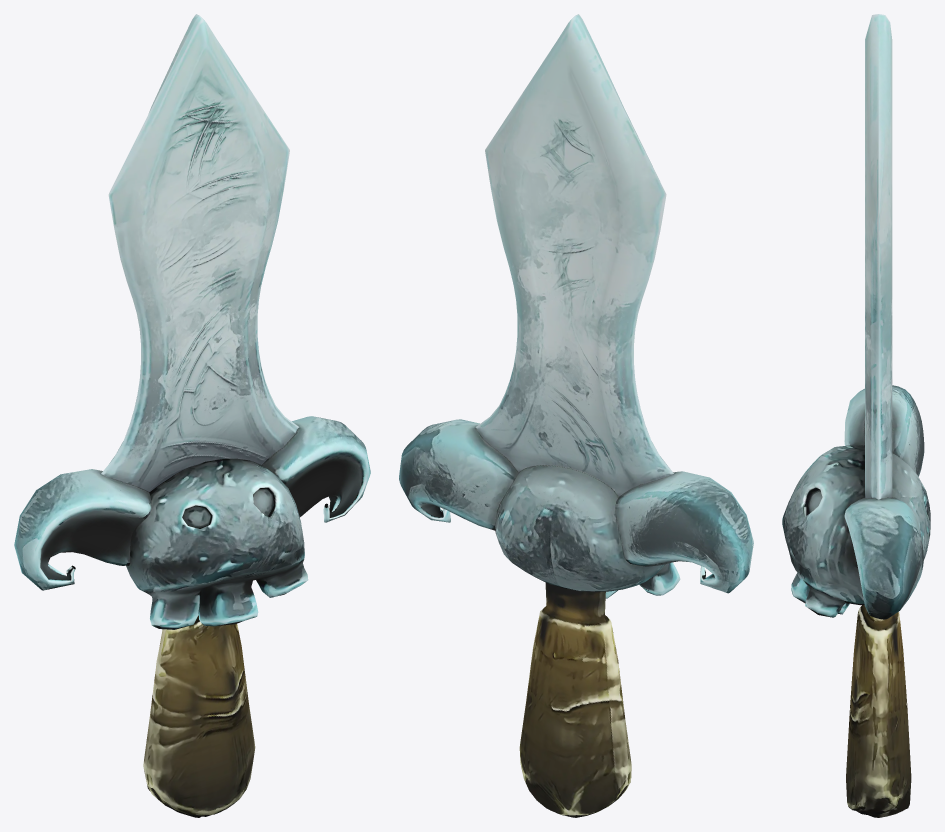
Rendered from 22022026 - SKW - SkeletonSword3.glb.
The picture shows the model from 3 angles, left to right: view 1: azimuth 30°, elevation 25°; view 2: azimuth 150°, elevation 25°; view 3: azimuth 270°, elevation 25°; orthographic projection.
Parts seen in each view (by area): view 1: Blade_LP.001, Skull_LP.001, Guard_LP.001, Hilt_1_LP.001; view 2: Blade_LP.001, Guard_LP.001, Hilt_1_LP.001, Skull_LP.001; view 3: Blade_LP.001, Skull_LP.001, Hilt_1_LP.001, Guard_LP.001.
Boxes of the visible parts, <box> form: Blade_LP.001: <box>101,14,299,491</box>; Skull_LP.001: <box>126,458,308,629</box>; Guard_LP.001: <box>14,416,370,590</box>; Hilt_1_LP.001: <box>143,615,255,817</box>; Blade_LP.001: <box>475,14,673,496</box>; Guard_LP.001: <box>399,419,753,593</box>; Hilt_1_LP.001: <box>519,583,631,817</box>; Skull_LP.001: <box>495,465,680,598</box>; Blade_LP.001: <box>865,14,892,499</box>; Skull_LP.001: <box>782,444,930,617</box>; Hilt_1_LP.001: <box>846,605,911,817</box>; Guard_LP.001: <box>844,385,924,619</box>.
Bounding box in the file's own units: 0.9781 × 2.16 × 0.3615.
1 material, 1 textured.
